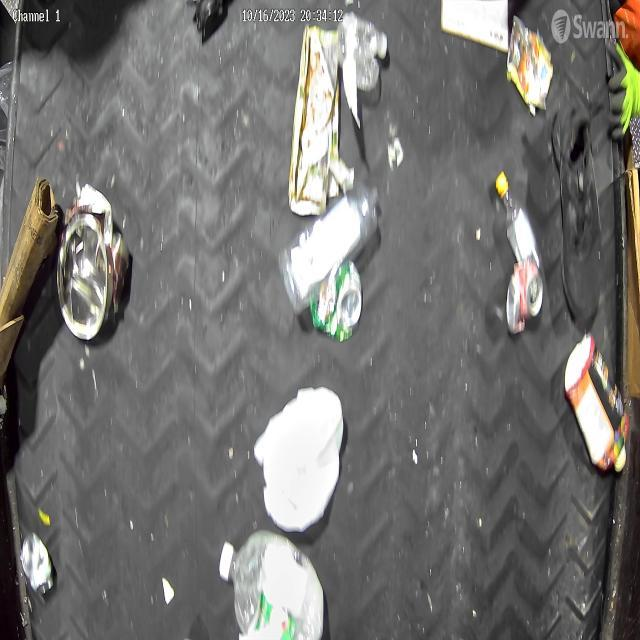can: (55, 174, 122, 342), (312, 262, 363, 344), (506, 258, 544, 347), (17, 516, 58, 598)
milk_jug: (255, 381, 344, 538)
plastic_bottle: (216, 529, 326, 640)
